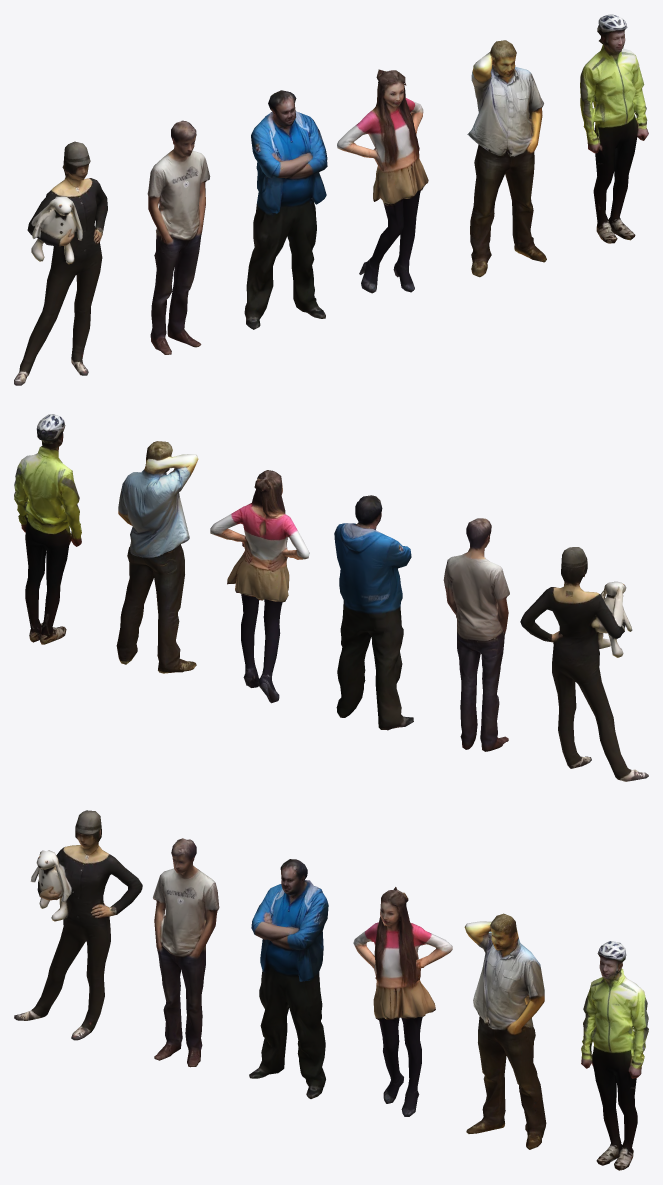
Rendered from people.glb.
3 views of the same model, one above another, from view 1: azimuth 30°, elevation 25°; view 2: azimuth 150°, elevation 25°; view 3: azimuth 330°, elevation 25° (orthographic).
Visible parts, largest first — view 1: 03_person.003, 05_person.003, 01_person.003, 06_person.003, 02_person.003, 04_person.003; view 2: 03_person.003, 05_person.003, 01_person.003, 02_person.003, 04_person.003, 06_person.003; view 3: 03_person.003, 05_person.003, 01_person.003, 06_person.003, 02_person.003, 04_person.003.
Part boxes in pixels (box(x1,y1,x2,y2)): 03_person.003: box(244, 90, 327, 329); 05_person.003: box(467, 40, 546, 277); 01_person.003: box(14, 141, 107, 385); 06_person.003: box(580, 14, 648, 243); 02_person.003: box(147, 120, 210, 354); 04_person.003: box(337, 69, 428, 293); 03_person.003: box(334, 495, 413, 730); 05_person.003: box(116, 441, 198, 673); 01_person.003: box(520, 547, 648, 781); 02_person.003: box(443, 518, 509, 751); 04_person.003: box(210, 470, 309, 703); 06_person.003: box(14, 414, 81, 644); 03_person.003: box(249, 859, 328, 1098); 05_person.003: box(464, 913, 546, 1149); 01_person.003: box(14, 810, 142, 1040); 06_person.003: box(581, 941, 648, 1170); 02_person.003: box(153, 838, 219, 1067); 04_person.003: box(353, 887, 452, 1116).
Size of the model in its own units: 296 by 101 by 28.26.
6 materials, 6 textured.
